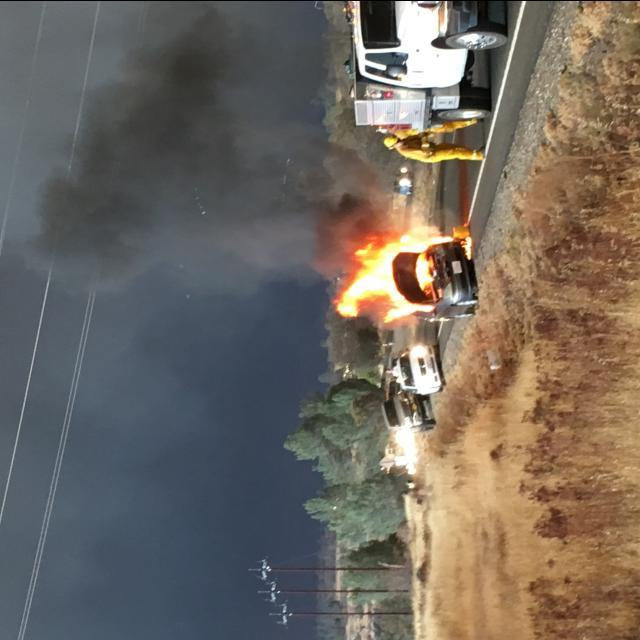Fire: (308, 218, 466, 330)
